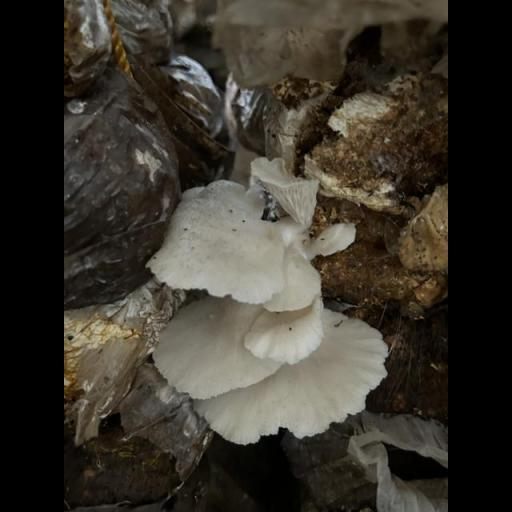White Oyster Mushroom: (142, 179, 398, 451)
